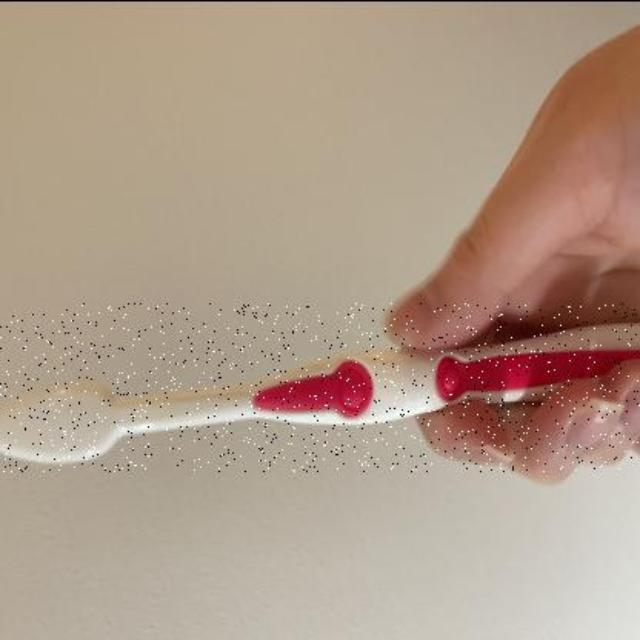toothbrush: (0, 302, 640, 470)
